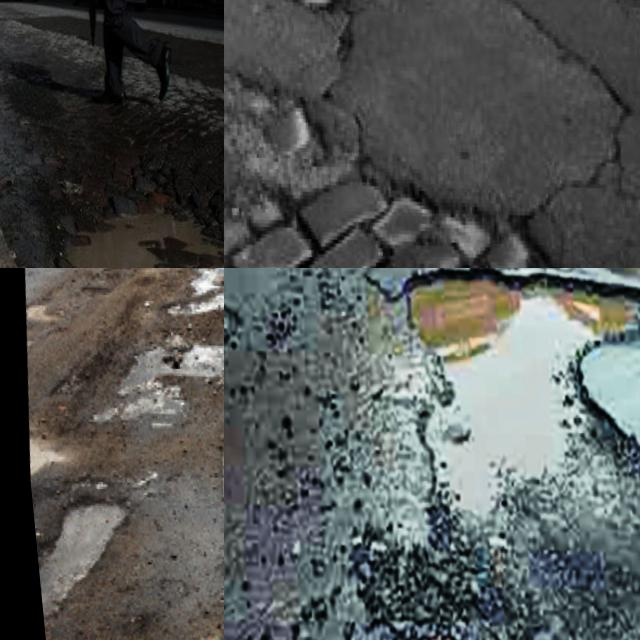Potholes: (304, 268, 640, 640), (224, 117, 628, 268), (23, 457, 162, 639), (83, 268, 224, 446), (24, 151, 224, 268), (224, 0, 412, 91), (224, 279, 258, 386)
